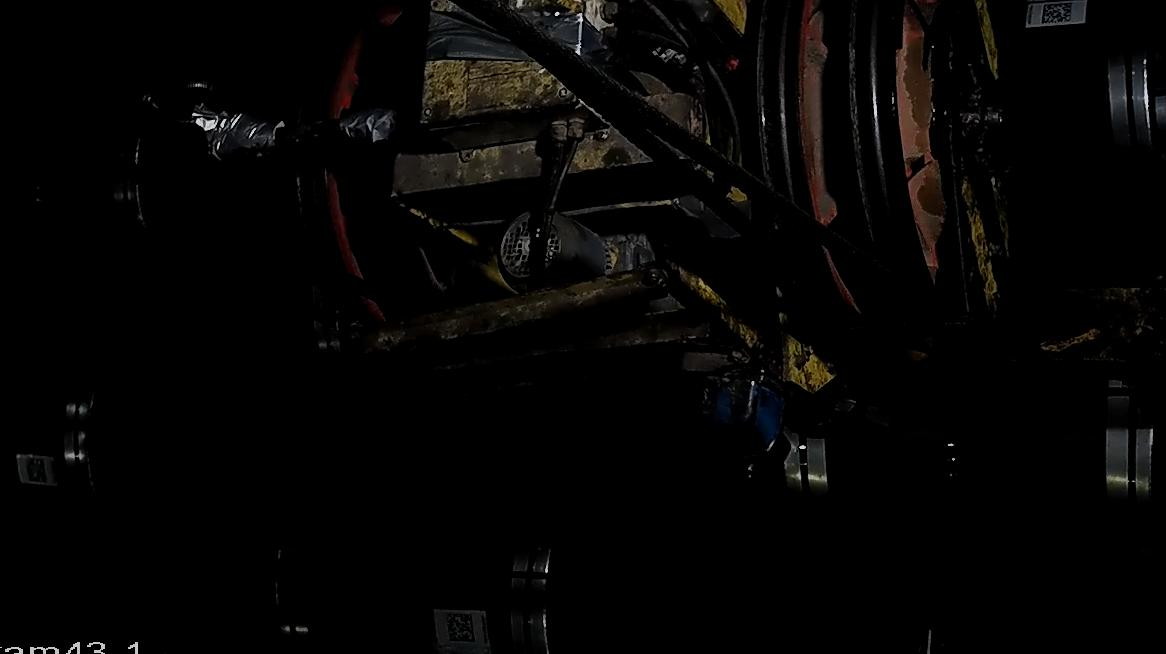data matrix: (445, 610, 478, 646), (1041, 1, 1075, 28), (24, 456, 51, 487)
